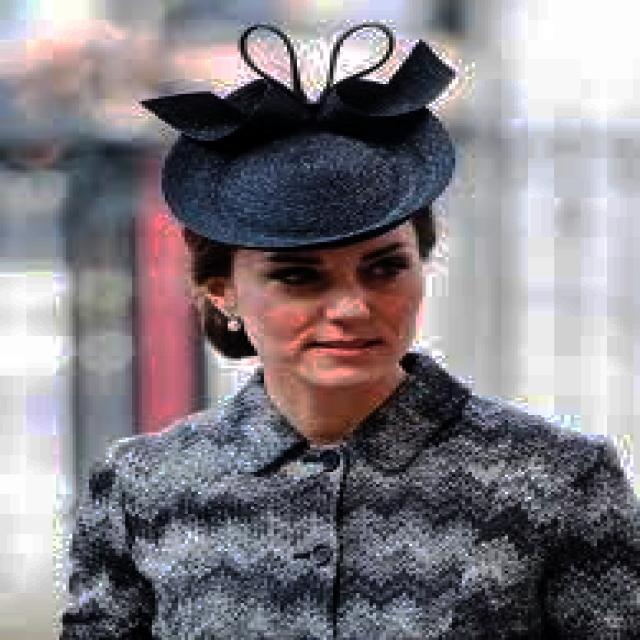TOPI: (122, 22, 462, 252)
